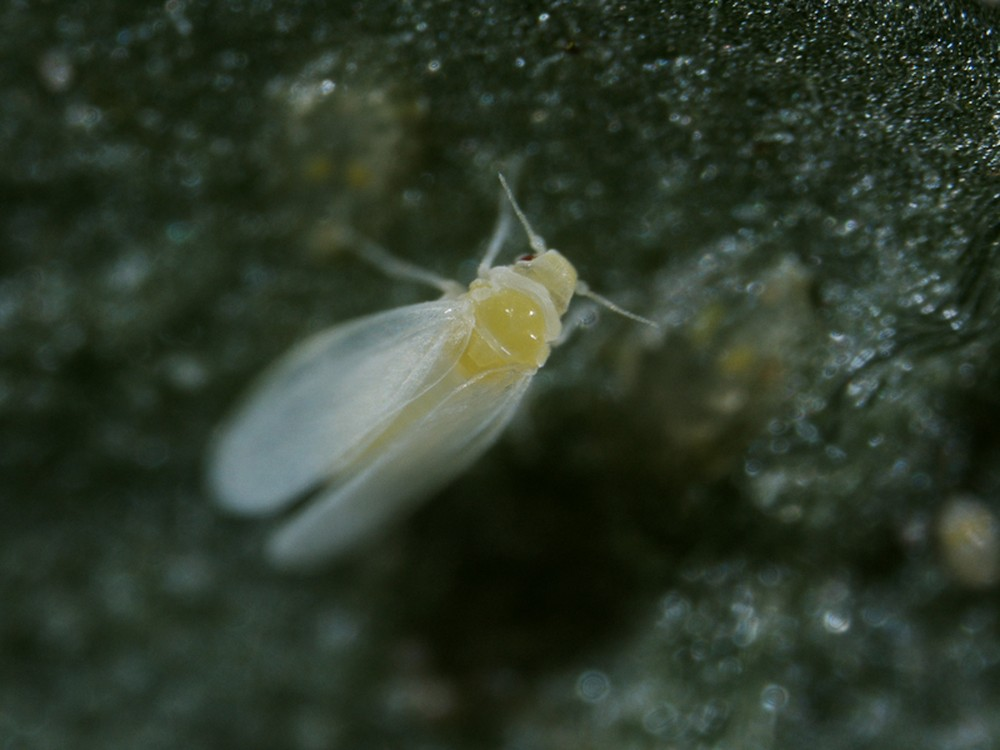Mosca Blanca: (192, 177, 677, 575)
